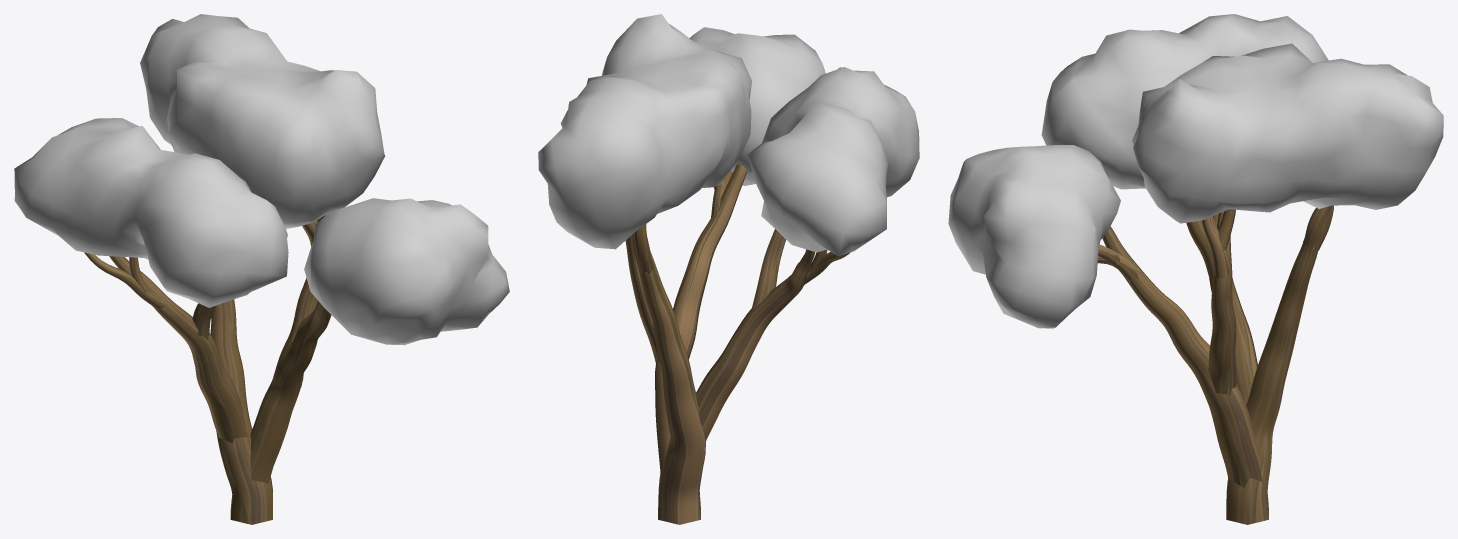
Rendered from SM_Trees_Wuyin_03_LOD0.fbx.
3 renders of one model, left to right at view 1: azimuth 30°, elevation 25°; view 2: azimuth 150°, elevation 25°; view 3: azimuth 270°, elevation 25°, orthographic.
Visible parts, largest first — view 1: SM_Trees_Wuyin_03_Leaves_LOD0, SM_Trees_Wuyin_03_Bark_LOD0; view 2: SM_Trees_Wuyin_03_Leaves_LOD0, SM_Trees_Wuyin_03_Bark_LOD0; view 3: SM_Trees_Wuyin_03_Leaves_LOD0, SM_Trees_Wuyin_03_Bark_LOD0.
Part boxes in pixels (box(x1,y1,x2,y2)): SM_Trees_Wuyin_03_Leaves_LOD0: box(14, 14, 509, 345); SM_Trees_Wuyin_03_Bark_LOD0: box(84, 215, 331, 524); SM_Trees_Wuyin_03_Leaves_LOD0: box(538, 14, 919, 256); SM_Trees_Wuyin_03_Bark_LOD0: box(625, 164, 849, 524); SM_Trees_Wuyin_03_Leaves_LOD0: box(948, 14, 1443, 328); SM_Trees_Wuyin_03_Bark_LOD0: box(1097, 205, 1333, 524).
Size of what is drawn, in the model's own units: 757 by 920 by 897.
